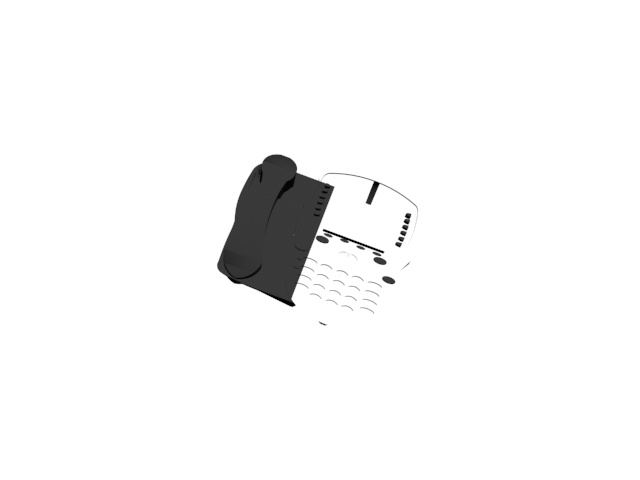phone: (217, 153, 424, 328)
